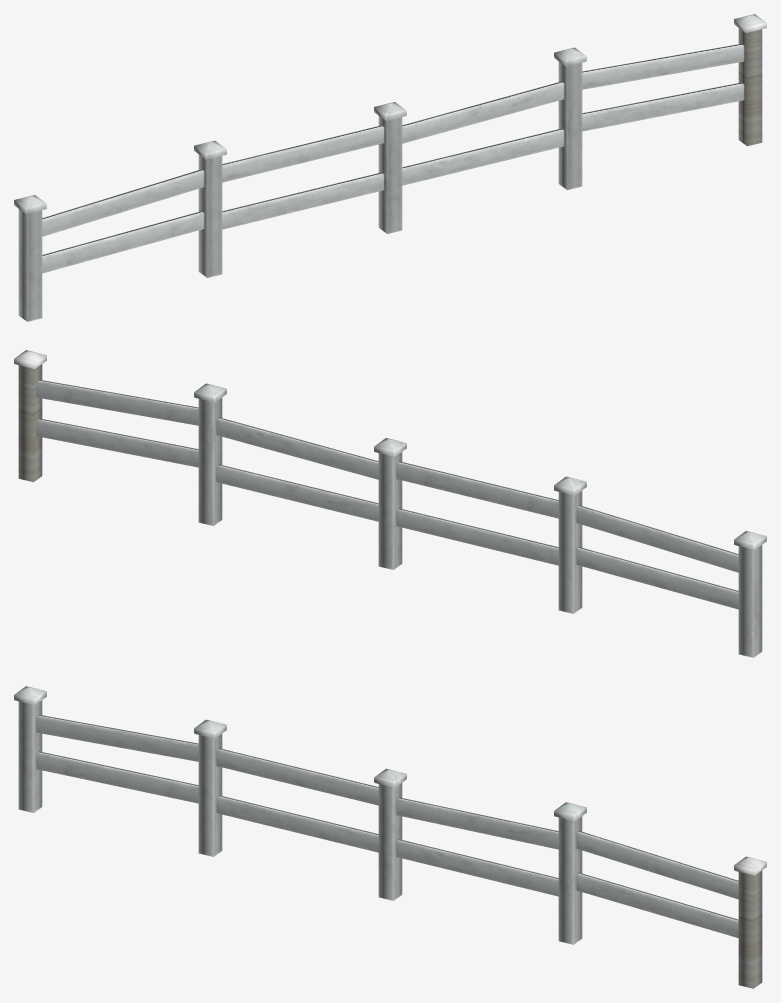
Rendered from objects_un_t05woodenfence01.gltf.
3 renders of one model, top to bottom at view 1: azimuth 30°, elevation 25°; view 2: azimuth 150°, elevation 25°; view 3: azimuth 330°, elevation 25°, orthographic.
Visible parts, largest first — view 1: um_objects_un_t05woodenfence01_model_lod0Shape:objects_un_t0; view 2: um_objects_un_t05woodenfence01_model_lod0Shape:objects_un_t0; view 3: um_objects_un_t05woodenfence01_model_lod0Shape:objects_un_t0.
Boxes of the visible parts, x1,y1,x2,y2 form: um_objects_un_t05woodenfence01_model_lod0Shape:objects_un_t0: [14, 14, 766, 321]; um_objects_un_t05woodenfence01_model_lod0Shape:objects_un_t0: [14, 350, 766, 657]; um_objects_un_t05woodenfence01_model_lod0Shape:objects_un_t0: [14, 686, 766, 988].
Bounding box in the file's own units: 7.41 × 1.3 × 0.21.
1 material, 1 textured.
